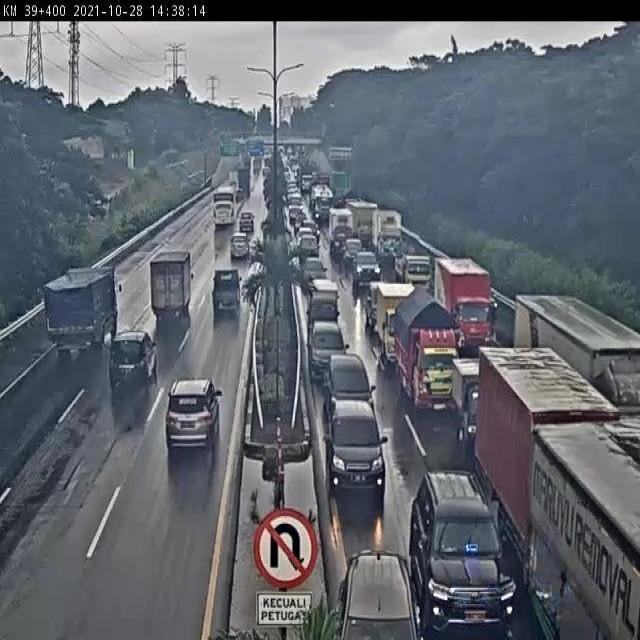big bus: (208, 179, 243, 236)
big truck: (474, 344, 609, 529), (534, 418, 640, 606), (513, 291, 640, 421), (43, 252, 120, 356), (437, 254, 498, 362), (397, 295, 456, 404), (138, 240, 200, 336), (376, 283, 423, 365), (397, 254, 439, 298)
car: (414, 457, 519, 639), (322, 393, 392, 515), (342, 548, 422, 640), (162, 373, 224, 463), (319, 347, 382, 421), (105, 318, 158, 398), (305, 316, 353, 385), (366, 281, 392, 332), (353, 251, 385, 289), (226, 231, 255, 260), (238, 204, 260, 232)
small truck: (452, 357, 493, 439), (212, 260, 249, 321)
